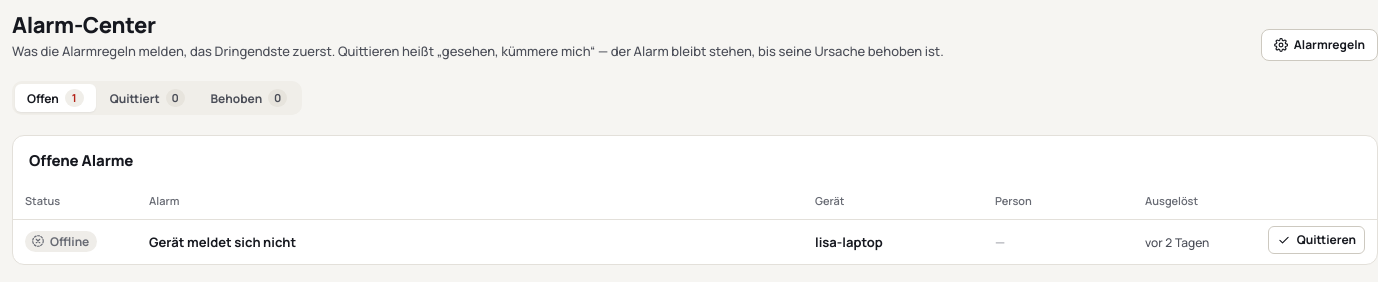
Test: AlertsPage › acknowledging › is busy while the request runs and takes no second click
Click the button named "Quittieren:": (1316, 240) [1268, 226, 1365, 254]
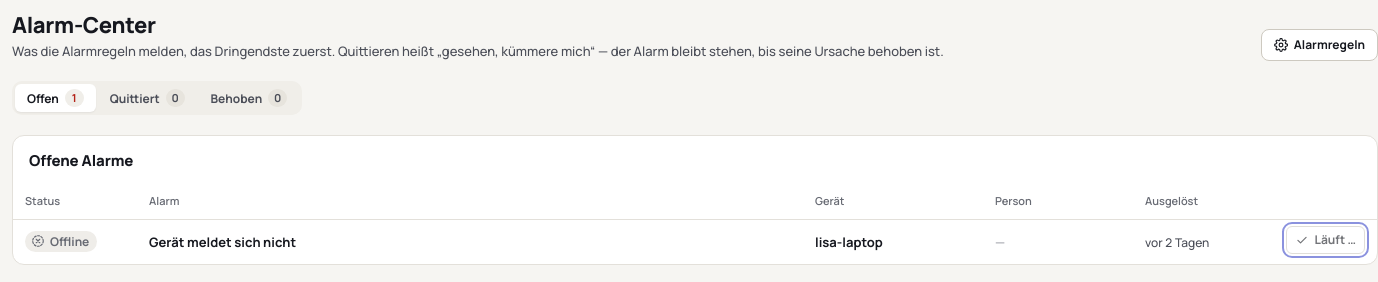
Expected: the button named "Quittieren:" reads "Läuft …"
Click the button named "Quittieren:": (1325, 240) [1286, 226, 1365, 254]
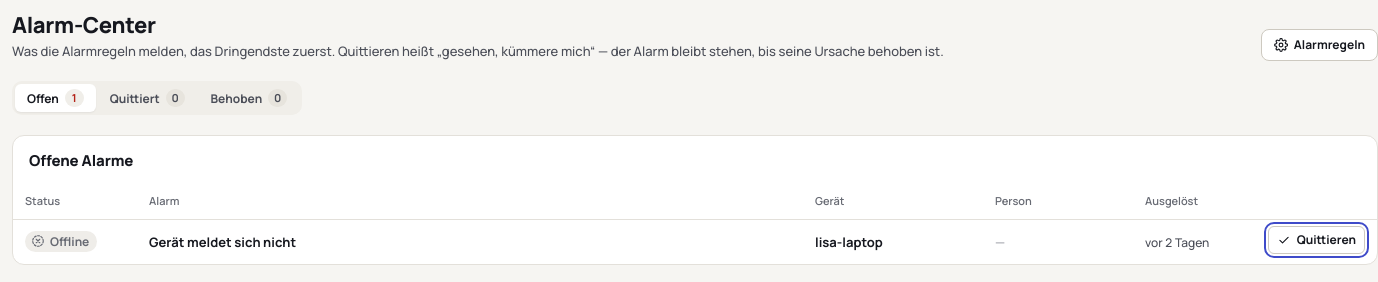
Expected: the button named "Quittieren:" reads "Quittieren", [1268, 226, 1365, 254]
